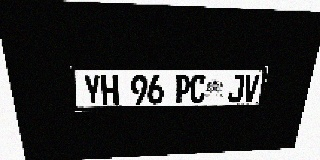6: (148, 75, 164, 104)
9: (131, 75, 147, 104)
C: (189, 75, 207, 103)
H: (101, 75, 119, 105)
J: (227, 75, 245, 103)
P: (174, 75, 191, 104)
V: (242, 75, 260, 102)
Y: (83, 75, 102, 105)
